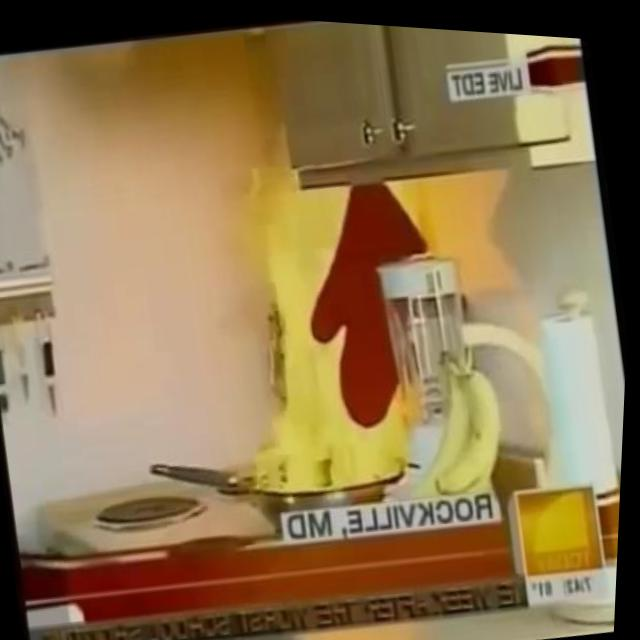fire: (188, 159, 448, 511)
